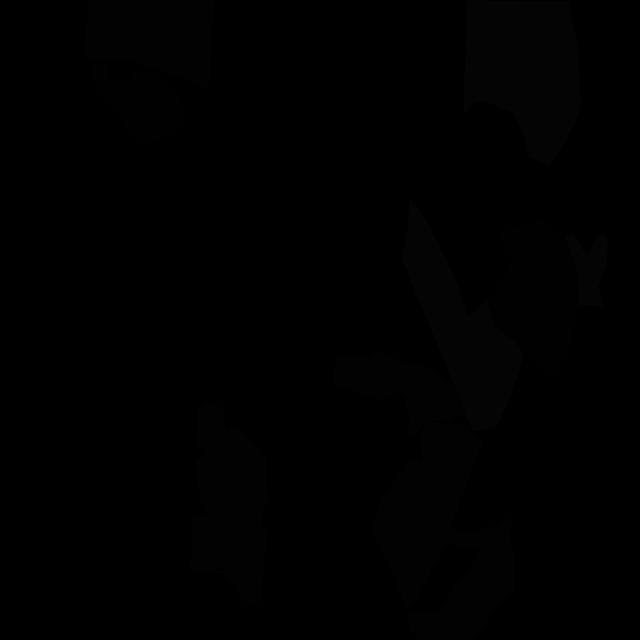cardboard: (370, 421, 514, 640), (190, 399, 272, 603), (84, 0, 215, 89), (332, 351, 468, 436)
rigid_plastic: (486, 217, 579, 378), (89, 60, 185, 147)
soft_plastic: (402, 199, 524, 431), (464, 0, 581, 166), (565, 233, 608, 307)
